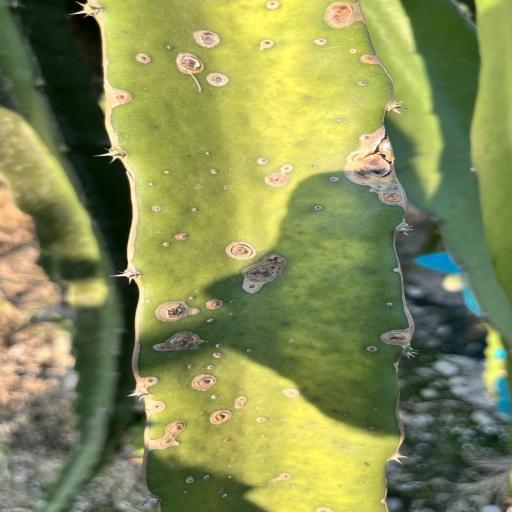stemcanker: (277, 386, 300, 400), (282, 387, 300, 400), (254, 416, 272, 426), (180, 488, 197, 497), (253, 416, 272, 424), (332, 116, 346, 125), (146, 181, 160, 190), (221, 472, 236, 480), (339, 408, 351, 418), (287, 483, 303, 490), (158, 168, 172, 176), (223, 436, 233, 444), (162, 170, 174, 176), (354, 480, 368, 485), (374, 406, 382, 414), (393, 267, 401, 273), (147, 182, 155, 188), (180, 490, 189, 495), (227, 474, 235, 479), (225, 438, 233, 443), (260, 434, 268, 439), (227, 463, 232, 467)
